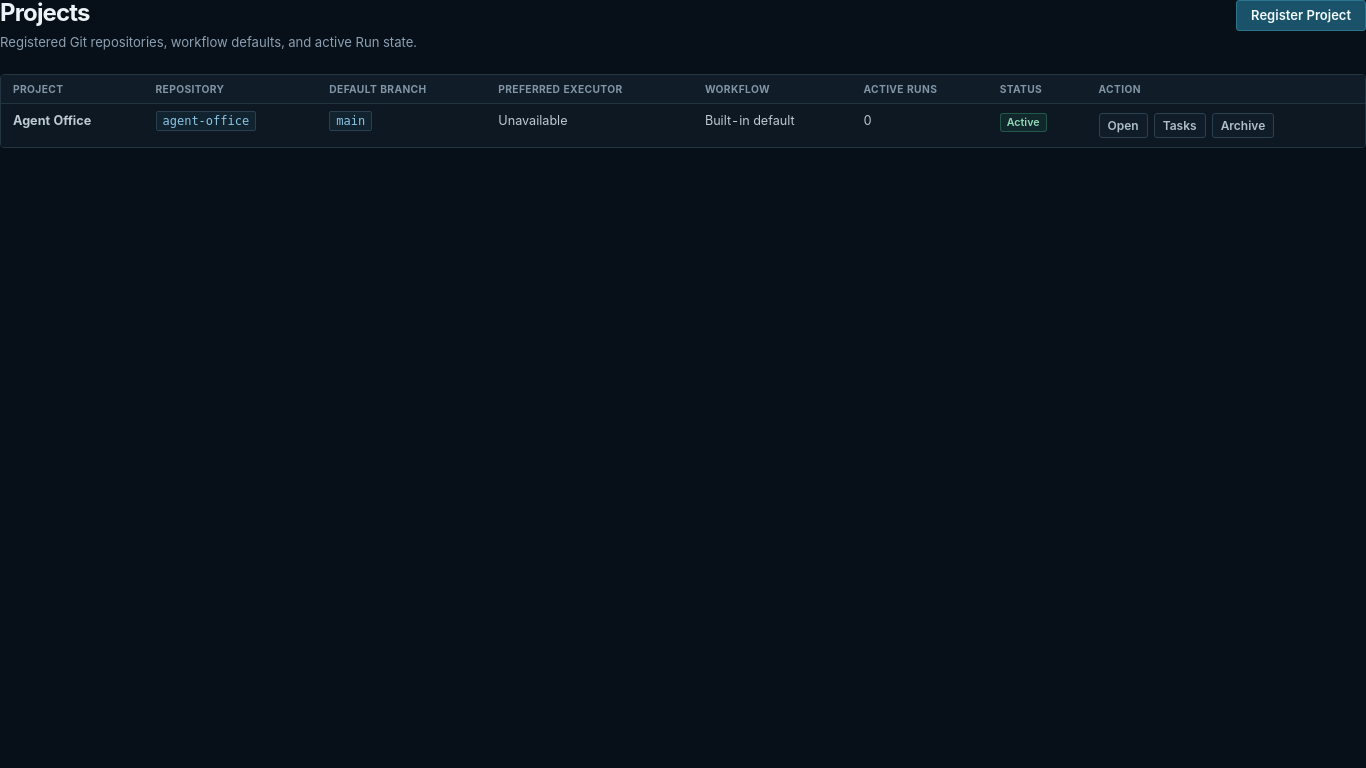
Test case: ProjectsPage Phase 5 registry › archives without deleting project history
Expected: the text "Agent Office" is shown, x1=13 y1=113 x2=91 y2=128
Click the button with aria-label "Archive project Agent Office" at (1243, 126), box x1=1212 y1=113 x2=1274 y2=138
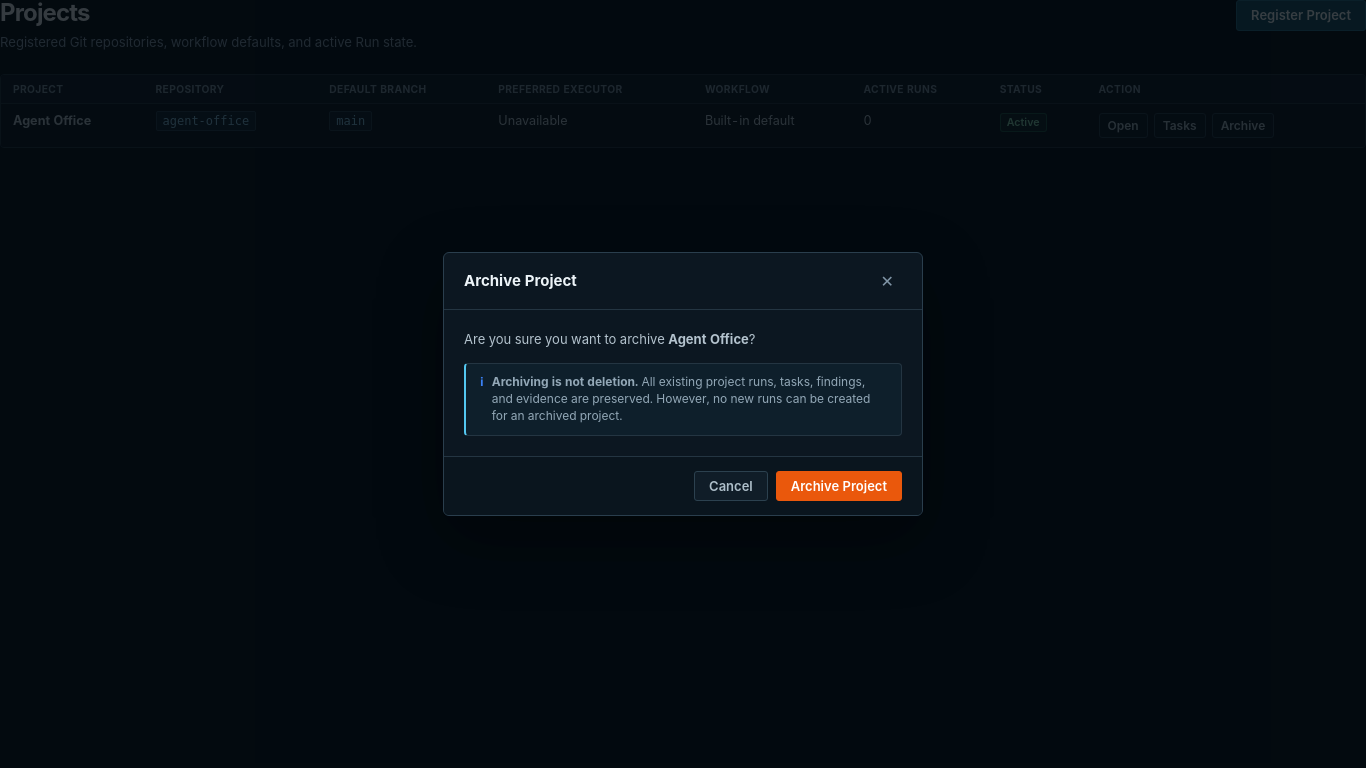
Expected: the dialog "Archive Project" shows "Archiving is not deletion.", x1=492 y1=374 x2=638 y2=389
Click the button "Archive Project" at (839, 486), box x1=776 y1=470 x2=902 y2=501
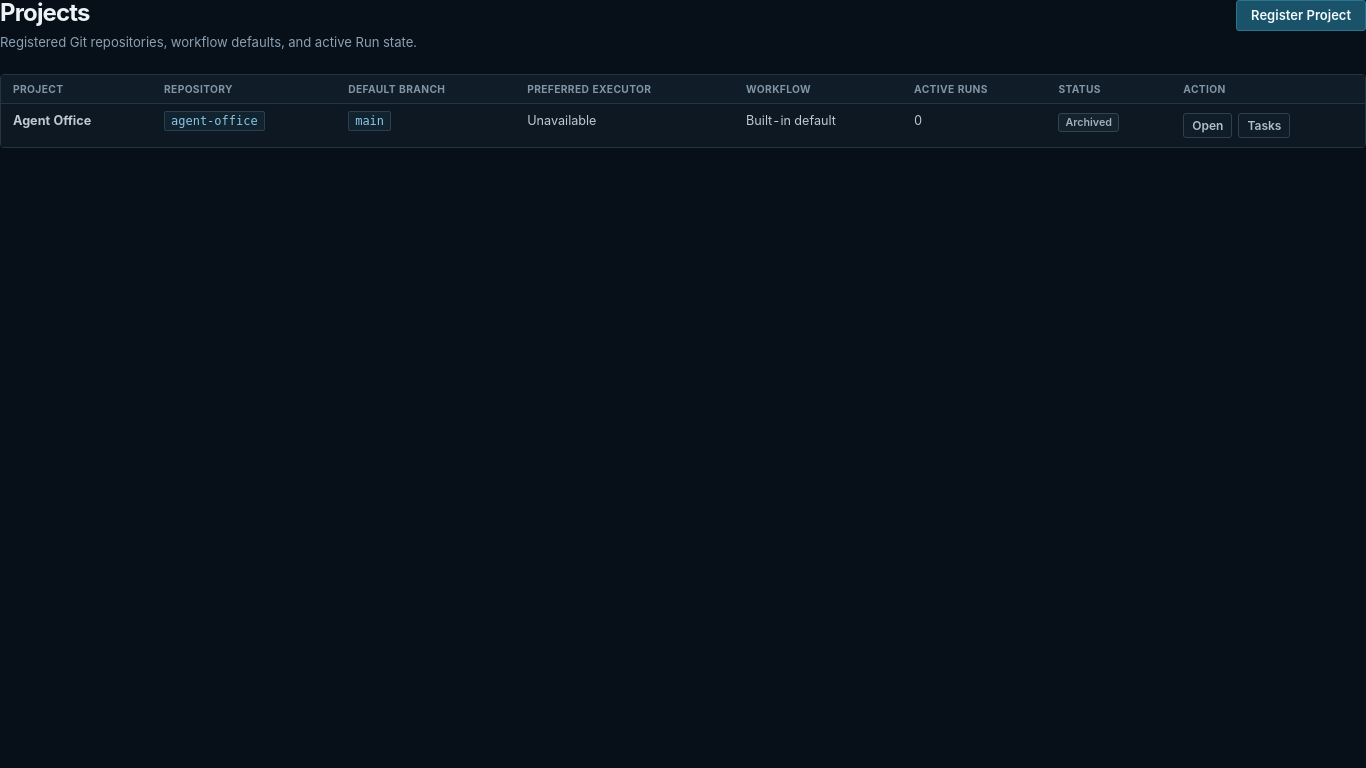
Expected: the text "Archived" is shown, x1=1058 y1=113 x2=1119 y2=132
